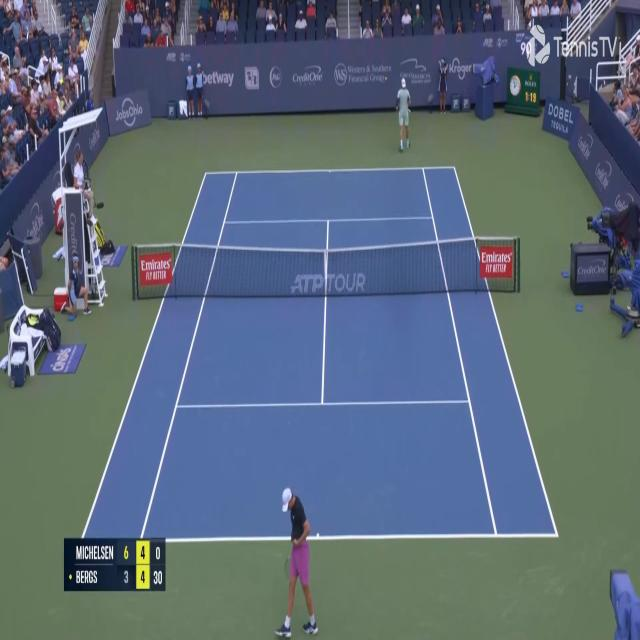tennis-player: (274, 486, 322, 639), (396, 76, 412, 153)
